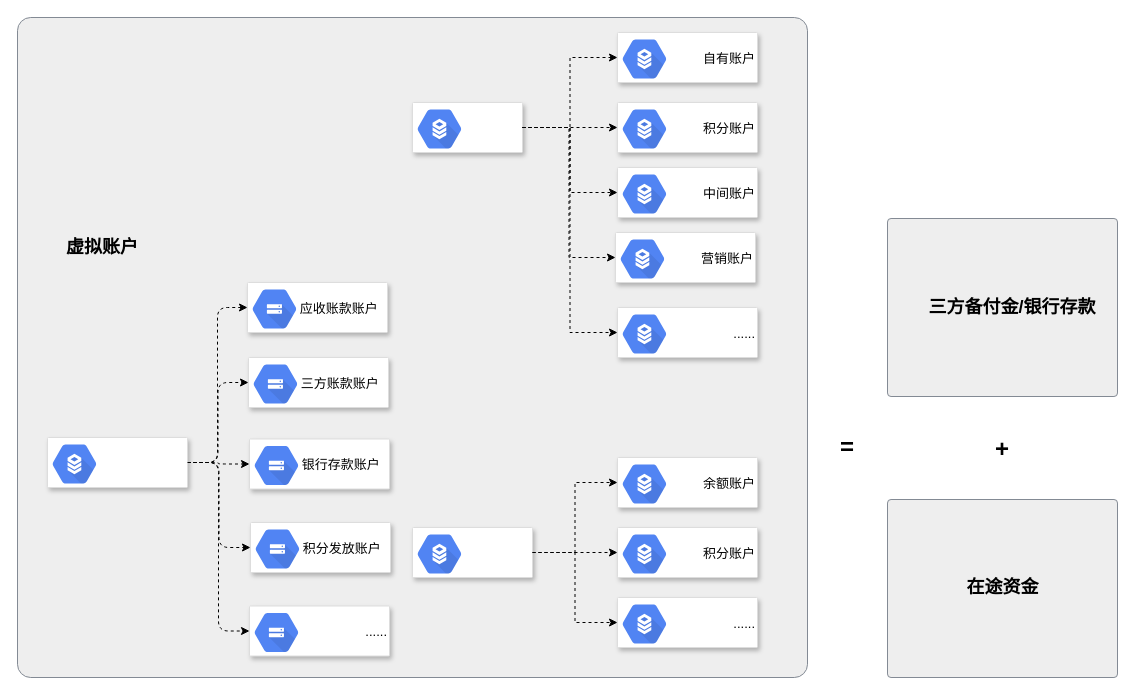
Some shapes in this 1145 by 695 pixel diagram are drawn without their labels. The centre of each missing label's shape, as x and y in pixels:
大B: point 468,129
小B、小C: point 473,553
系统专属: point 118,463
